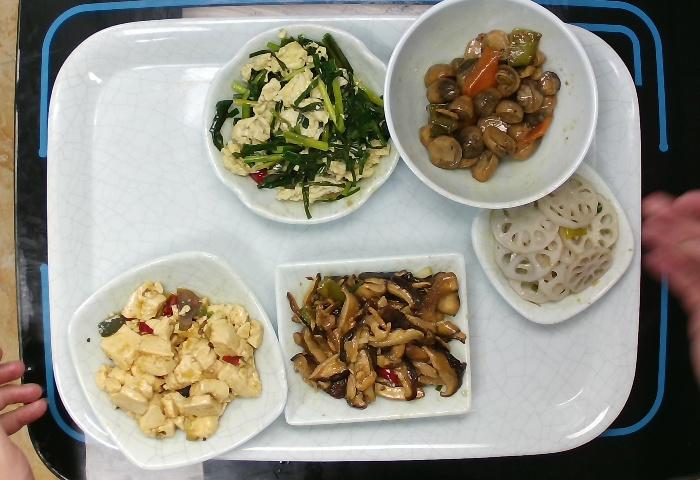JYsf-Ao_Yuan_Wan: (197, 15, 403, 230)
JYsf-Fan_Wan: (378, 1, 603, 214)
JYsf-Si_Fang_Die: (465, 156, 641, 331)
WCQzf-Da_Si_Fang_Die: (62, 249, 293, 475)
WCQzf-Ru_Ci_Si_Fang_Die: (268, 249, 475, 433)
